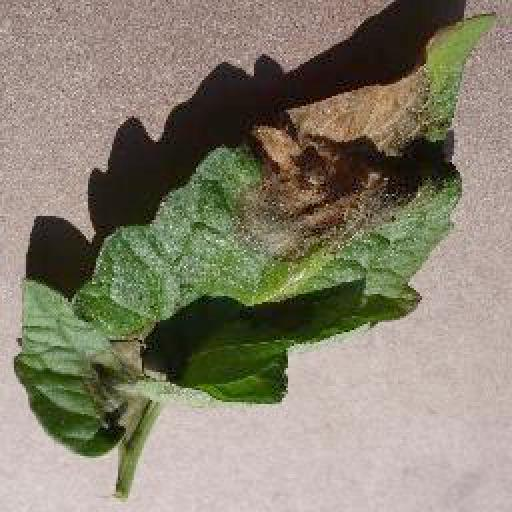disease_tomato: (12, 14, 498, 458)
